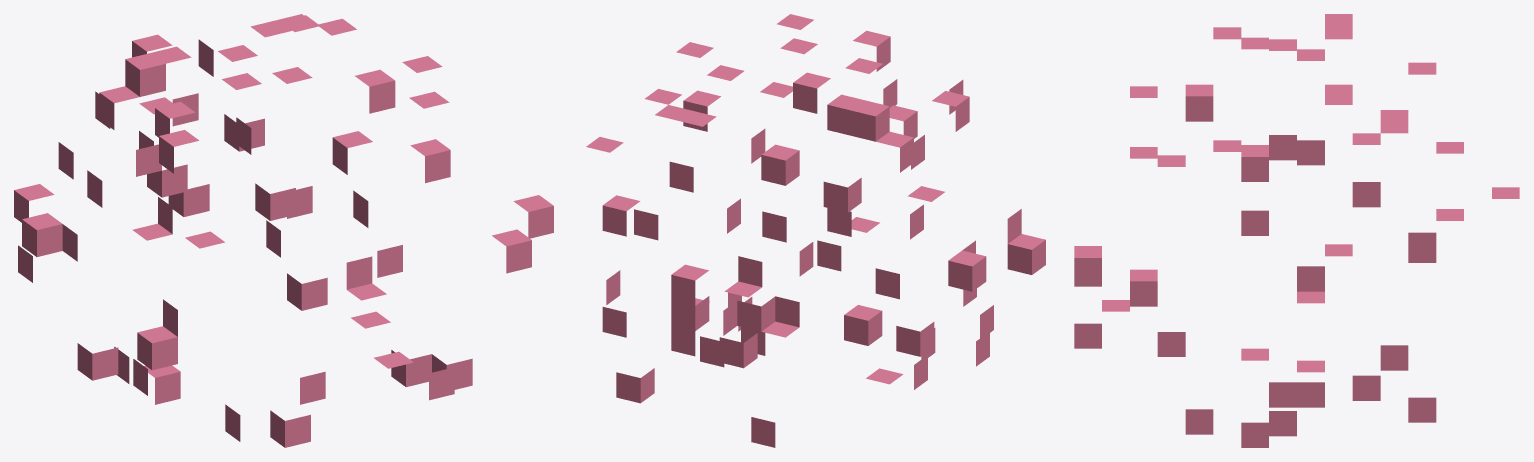
File: tree-cherry-1p25-pink1-e77fa0.gltf
The picture shows the model from 3 angles, left to right: view 1: azimuth 30°, elevation 25°; view 2: azimuth 150°, elevation 25°; view 3: azimuth 270°, elevation 25°; orthographic projection. The views are drawn at different scales.
Parts seen in each view (by area): view 1: tree-cherry-1p25-pink1-e77fa0; view 2: tree-cherry-1p25-pink1-e77fa0; view 3: tree-cherry-1p25-pink1-e77fa0.
Boxes of the visible parts, box(x1,y1,x2,y2) form: tree-cherry-1p25-pink1-e77fa0: box(14, 14, 553, 447); tree-cherry-1p25-pink1-e77fa0: box(586, 14, 1045, 447); tree-cherry-1p25-pink1-e77fa0: box(1074, 14, 1519, 447).
Bounding box in the file's own units: 16 × 13 × 16.
